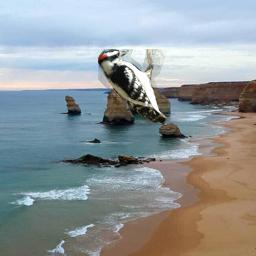Woodpecker: (98, 49, 167, 125)
